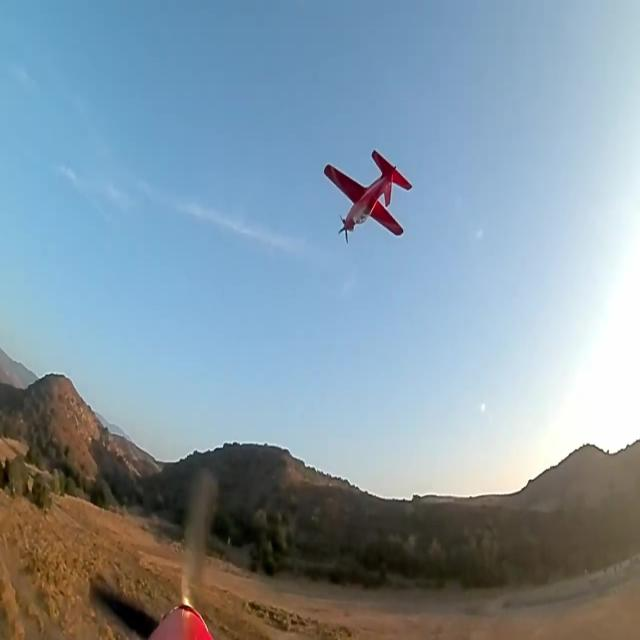iha: (355, 180, 381, 210)
